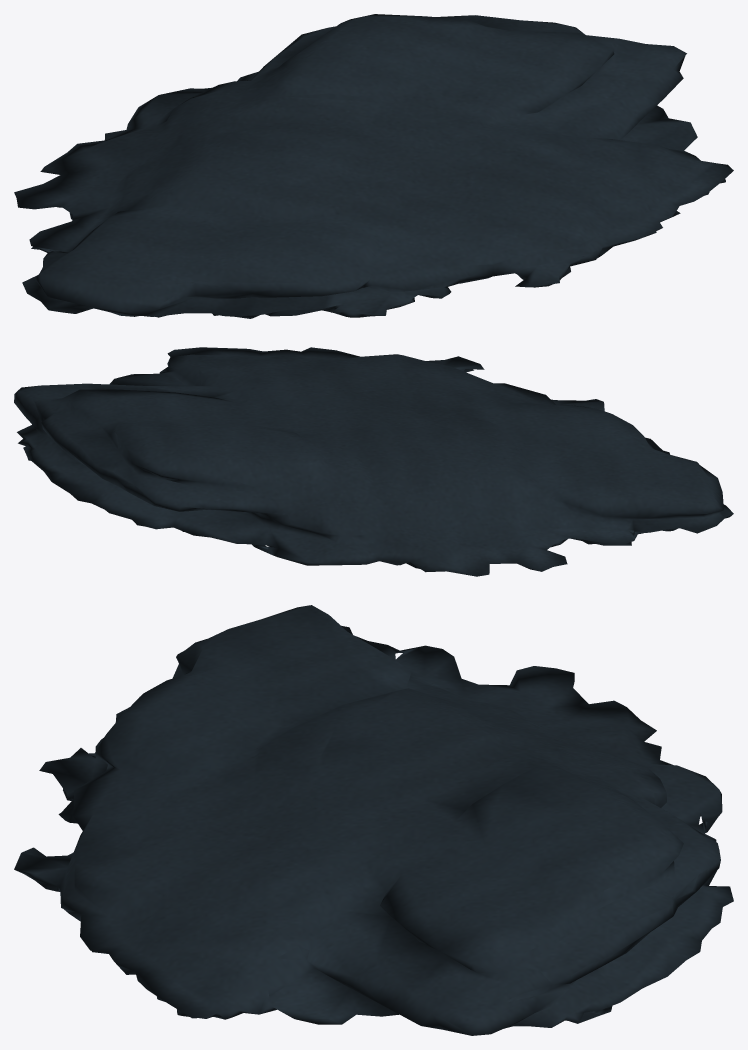
File: slate-v0-recovered-lod0.gltf
The picture shows the model from 3 angles, top to bottom: view 1: azimuth 30°, elevation 25°; view 2: azimuth 150°, elevation 25°; view 3: azimuth 270°, elevation 25°; orthographic projection. The views are drawn at different scales.
Visible parts, largest first — view 1: slate-v0-recovered-lod0; view 2: slate-v0-recovered-lod0; view 3: slate-v0-recovered-lod0.
Boxes of the visible parts, x1,y1,x2,y2 form: slate-v0-recovered-lod0: [14, 14, 733, 318]; slate-v0-recovered-lod0: [14, 347, 733, 576]; slate-v0-recovered-lod0: [14, 605, 733, 1035].
Size of the model in its own units: 0.3695 by 0.0324 by 0.2579.
Materials: 1 (1 with a texture image).
